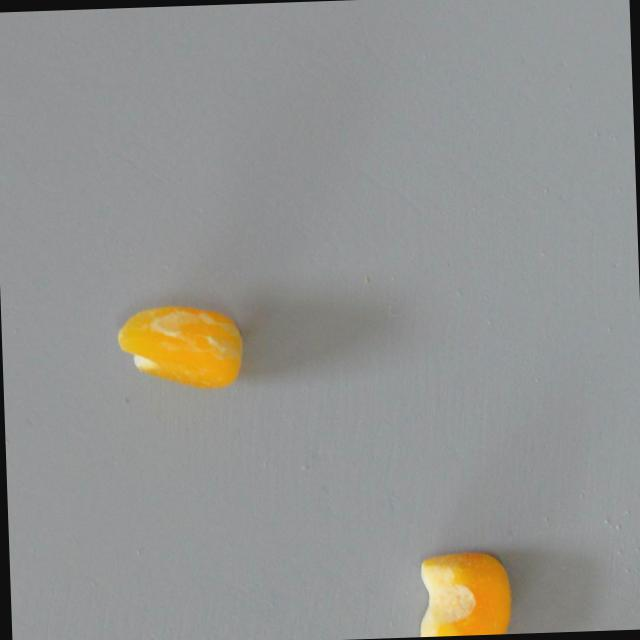no_desgerminado: (416, 549, 513, 637)
pelicula: (114, 300, 246, 394)
